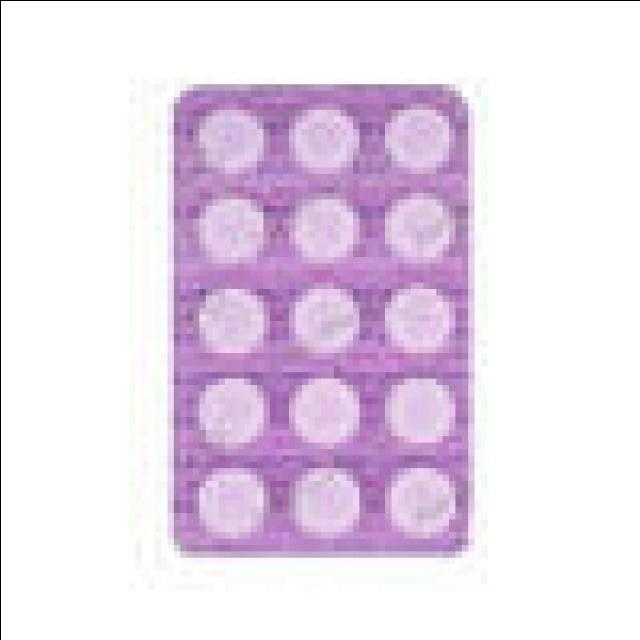authentic: (160, 71, 485, 576)
